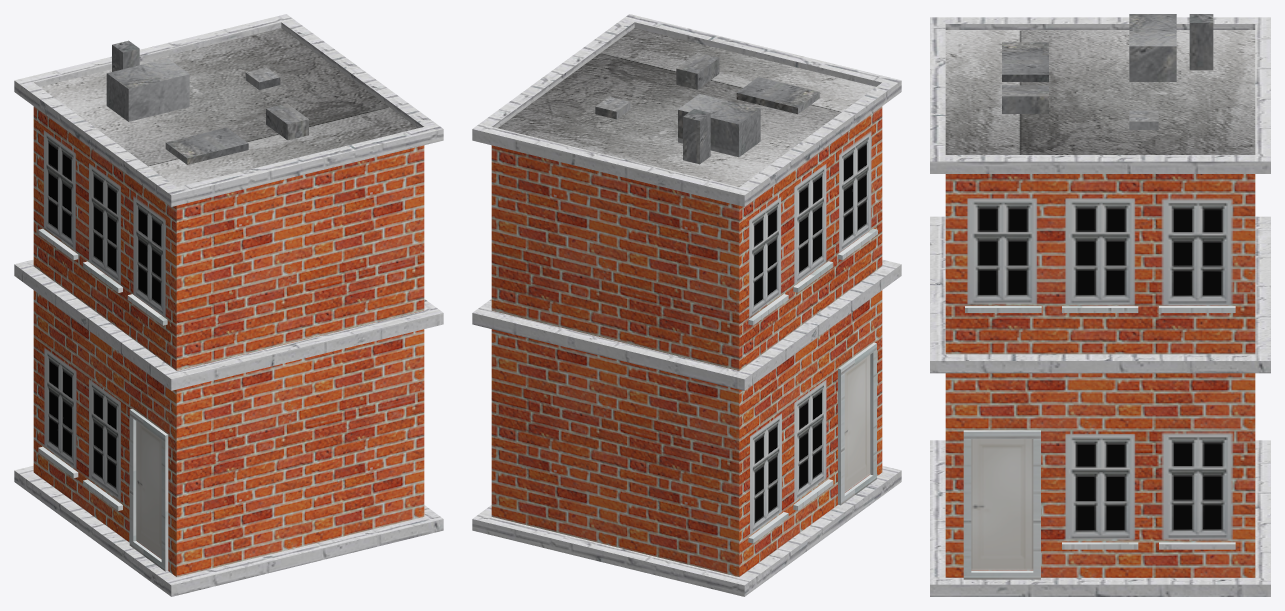
Rendered from BigApartment.fbx.
3 views of the same model, side by side, from view 1: azimuth 30°, elevation 25°; view 2: azimuth 150°, elevation 25°; view 3: azimuth 270°, elevation 25° (orthographic). The views are drawn at different scales.
Parts seen in each view (by area): view 1: AHouse_1; view 2: AHouse_1; view 3: AHouse_1.
Boxes of the visible parts, x1,y1,x2,y2 form: AHouse_1: (14, 14, 443, 596); AHouse_1: (472, 14, 901, 596); AHouse_1: (930, 14, 1270, 596).
Bounding box in the file's own units: 220 × 339 × 220.
1 material, 1 textured.
